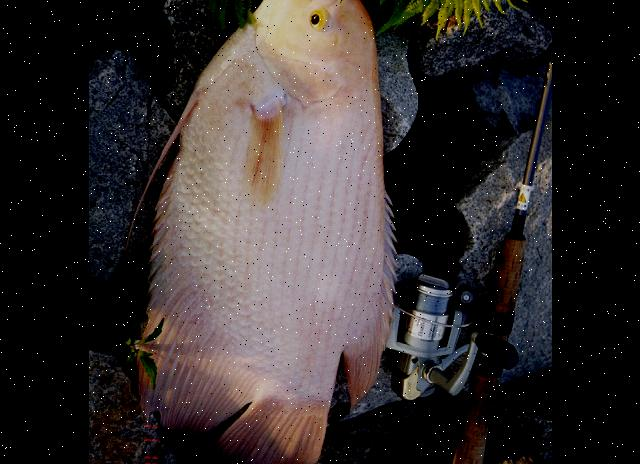Sirip Dada: (218, 80, 302, 212)
Sirip Ekor: (197, 395, 343, 464)
Sirip Punggung: (322, 180, 410, 428)
